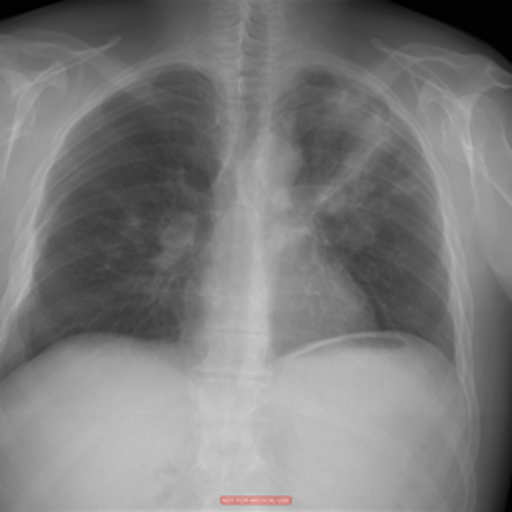TB: (310, 92, 404, 230)
